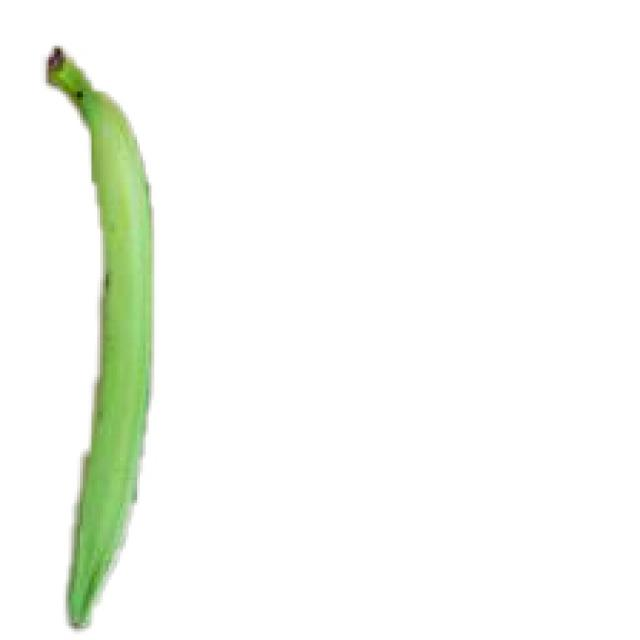fresh-banana: (43, 43, 154, 628)
